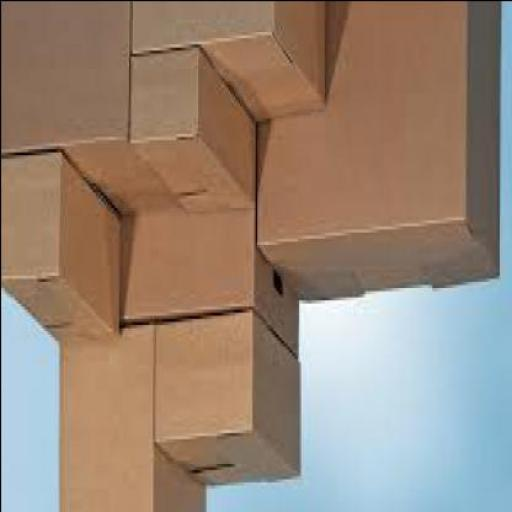cardboard: (258, 3, 500, 302), (1, 3, 182, 219), (58, 326, 207, 511), (118, 213, 298, 358), (155, 312, 302, 488), (132, 3, 328, 120), (2, 151, 121, 339), (129, 53, 256, 213)
